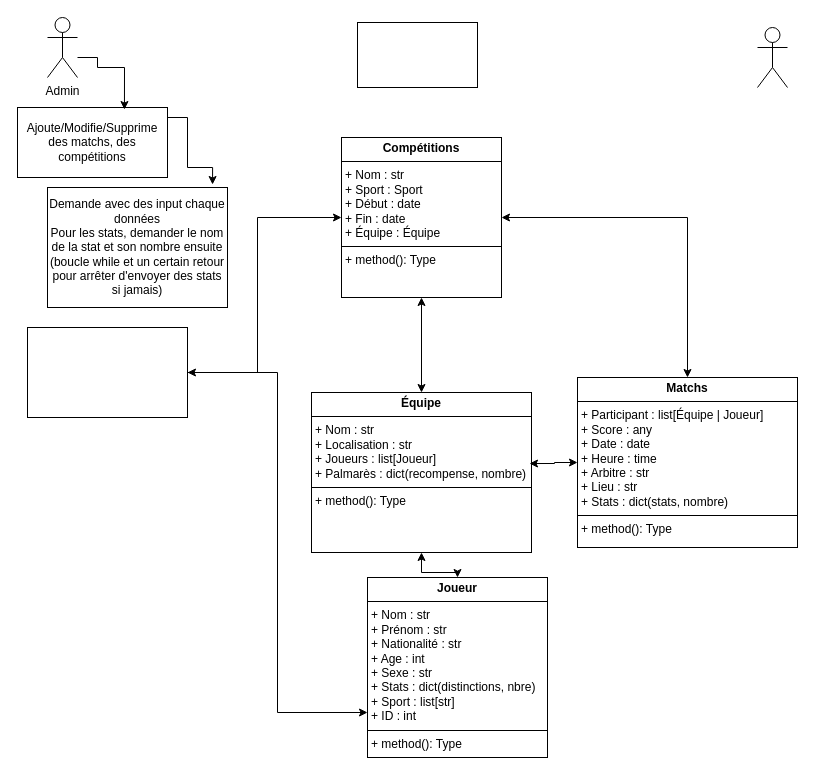
Image size: 815x775. Some labels were removed from this diagram. Each missing label, with the box of its shape:
Automatiser les classements ? Selon les matchs dans la compet: (356, 22, 478, 88)
Sport + Nom : str + + method(): Type: (26, 326, 188, 418)
Viewer: (756, 26, 788, 88)
